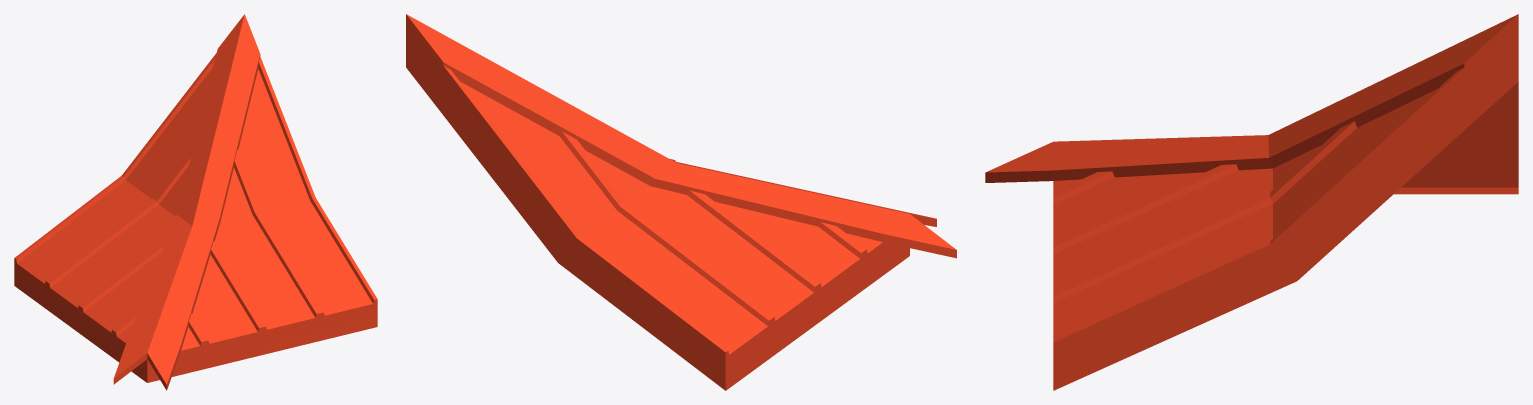
The model's file is roof-metal-moderate-regular-2x2m-corner-a.fbx.
The picture shows the model from 3 angles, left to right: view 1: azimuth 30°, elevation 25°; view 2: azimuth 150°, elevation 25°; view 3: azimuth 270°, elevation 25°; orthographic projection. The views are drawn at different scales.
Parts seen in each view (by area): view 1: roof-metal-moderate-regular-2x2m-corner-a; view 2: roof-metal-moderate-regular-2x2m-corner-a; view 3: roof-metal-moderate-regular-2x2m-corner-a.
Part boxes in pixels (bbox=[...]): roof-metal-moderate-regular-2x2m-corner-a: bbox=[14, 14, 377, 390]; roof-metal-moderate-regular-2x2m-corner-a: bbox=[406, 14, 956, 390]; roof-metal-moderate-regular-2x2m-corner-a: bbox=[985, 14, 1518, 390].
Bounding box in the file's own units: 2.29 × 1.79 × 2.29.
